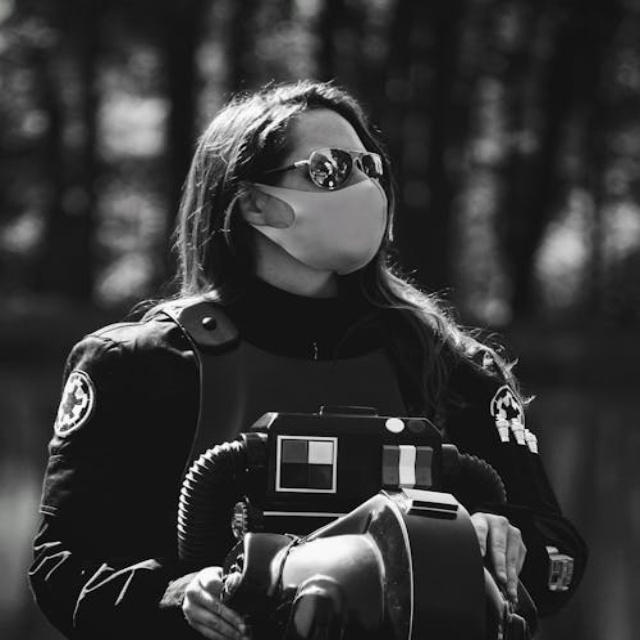Gafas: (255, 148, 386, 192)
Mascara: (238, 159, 389, 277)
Sin_guantes: (465, 503, 539, 607), (163, 560, 251, 638)
